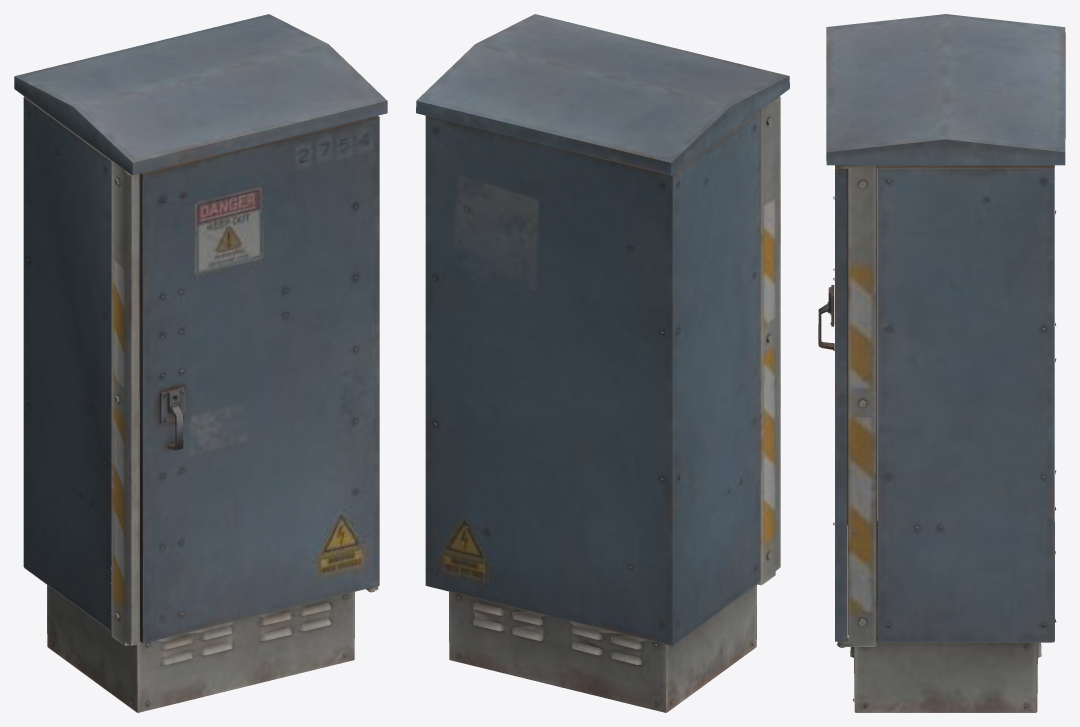
File: utility_box.glb
3 renders of one model, left to right at view 1: azimuth 30°, elevation 25°; view 2: azimuth 150°, elevation 25°; view 3: azimuth 270°, elevation 25°, orthographic.
Visible parts, largest first — view 1: utility_box; view 2: utility_box; view 3: utility_box.
Part boxes in pixels (left/top/right/bottom): utility_box: left=14, top=14, right=387, bottom=712; utility_box: left=416, top=14, right=789, bottom=712; utility_box: left=818, top=14, right=1065, bottom=712.
Size of the model in its own units: 0.5178 by 1.12 by 0.4303.
Materials: 1 (1 with a texture image).
